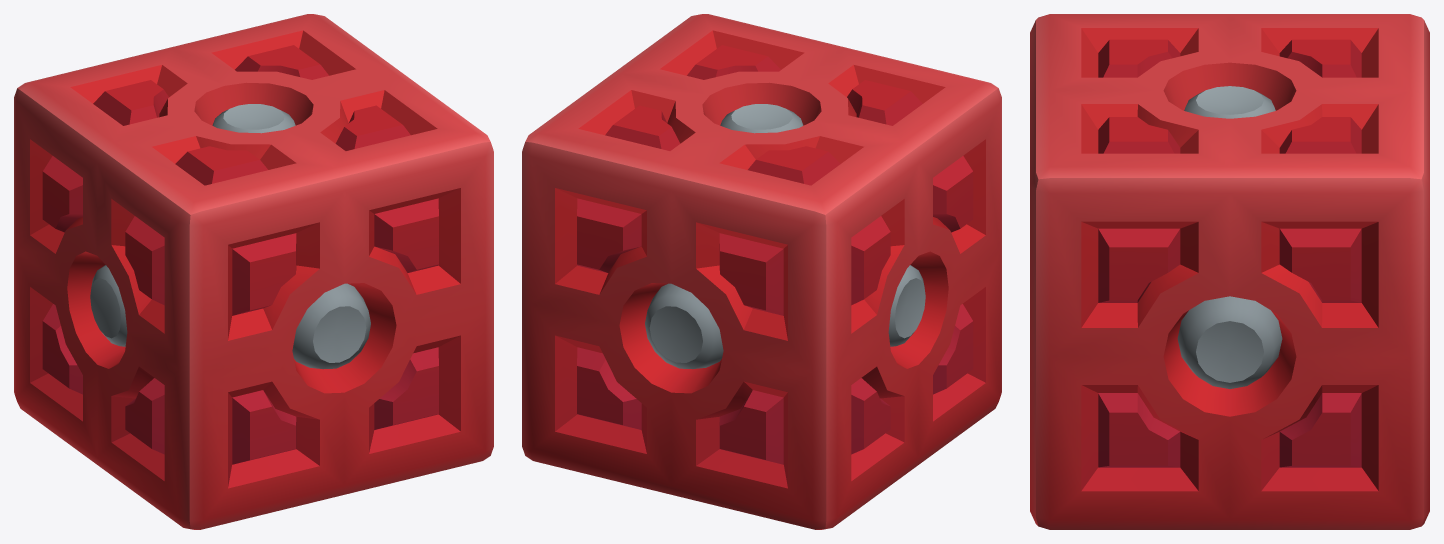
File: decorative_block_red.glb
The picture shows the model from 3 angles, left to right: view 1: azimuth 30°, elevation 25°; view 2: azimuth 150°, elevation 25°; view 3: azimuth 270°, elevation 25°; orthographic projection. The views are drawn at different scales.
Visible parts, largest first — view 1: decorative_block_red; view 2: decorative_block_red; view 3: decorative_block_red.
Part boxes in pixels (<box>): decorative_block_red: <box>14,14,493,529</box>; decorative_block_red: <box>522,14,1001,529</box>; decorative_block_red: <box>1030,14,1429,529</box>.
Size of the model in its own units: 2 by 2 by 2.
Materials: 1 (1 with a texture image).
